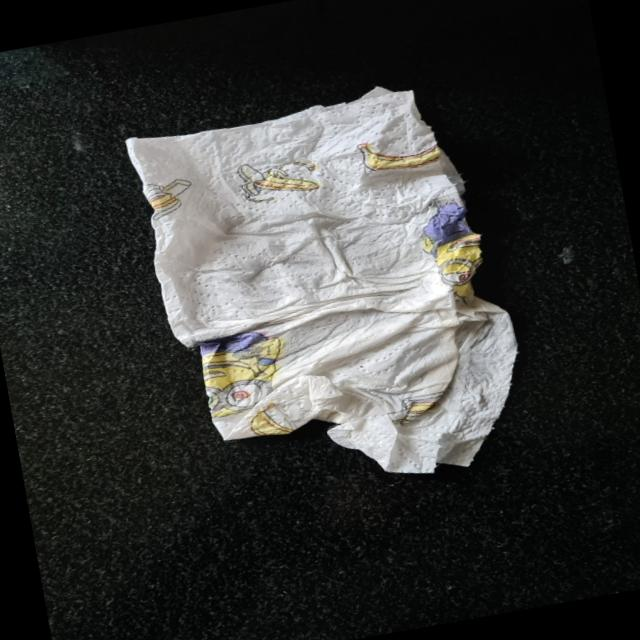organic waste: (90, 79, 543, 525)
